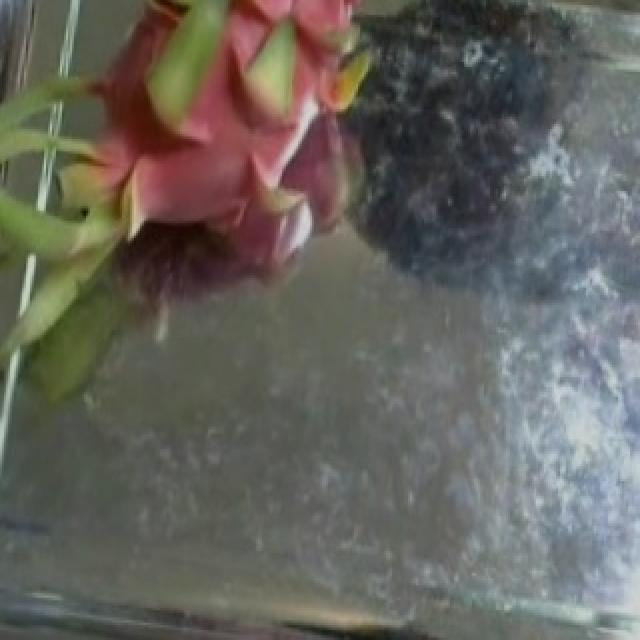fruit: (0, 0, 420, 380)
